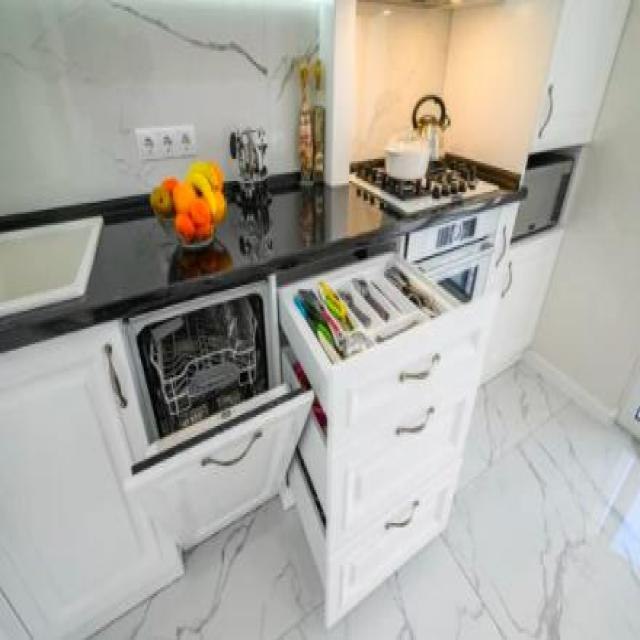dishwasher: (108, 282, 320, 563)
